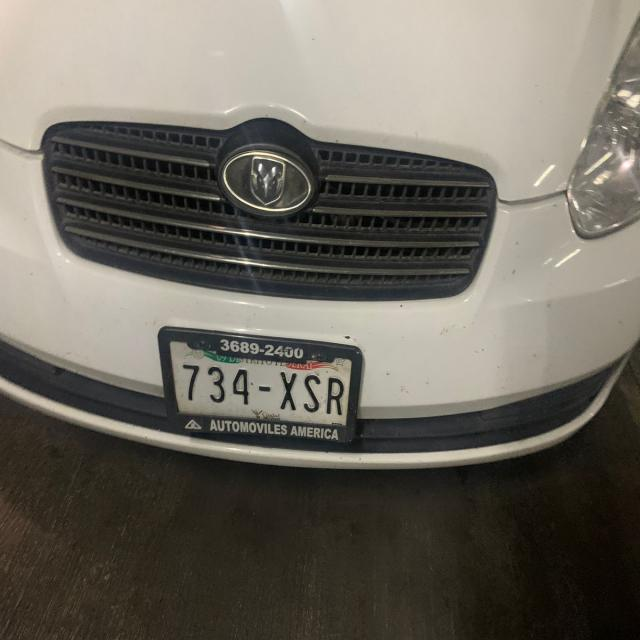placa: (166, 356, 348, 421)
